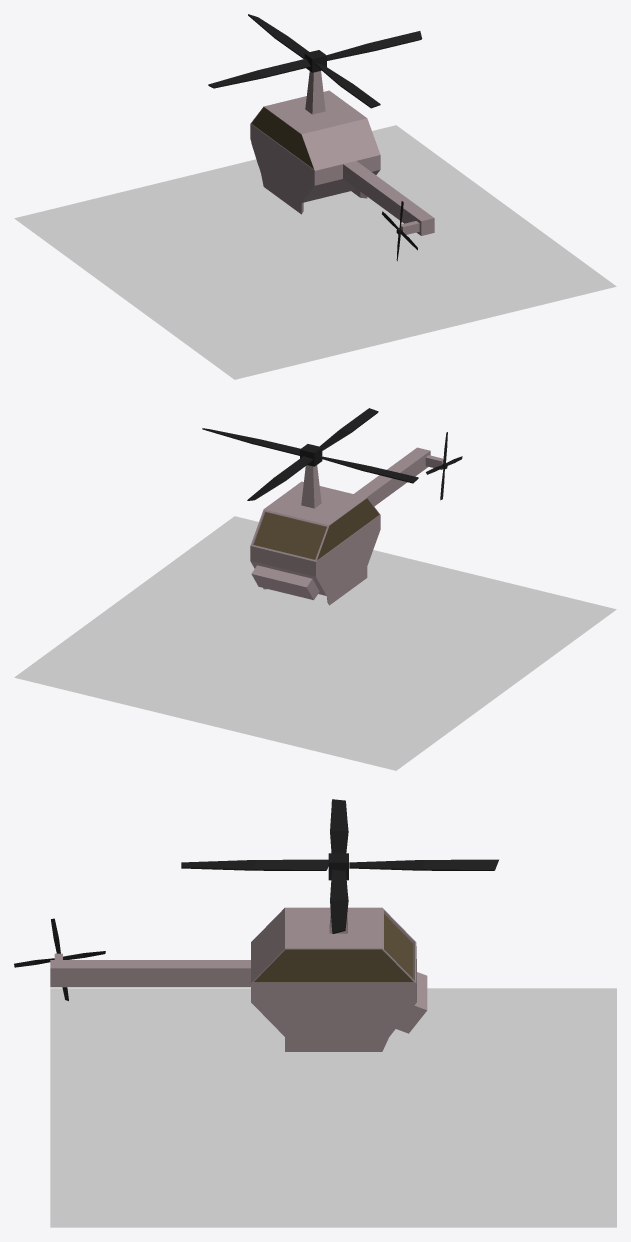
Rendered from Helicopter.fbx.
3 renders of one model, top to bottom at view 1: azimuth 30°, elevation 25°; view 2: azimuth 150°, elevation 25°; view 3: azimuth 270°, elevation 25°, orthographic. The views are drawn at different scales.
Parts seen in each view (by area): view 1: Plane, HeliBody, Rator; view 2: Plane, HeliBody, Rator; view 3: Plane, HeliBody, Rator, backRator.
Part boxes in pixels (<box>): Plane: <box>14,125,616,379</box>; HeliBody: <box>250,71,434,235</box>; Rator: <box>208,14,422,108</box>; Plane: <box>14,516,616,770</box>; HeliBody: <box>250,447,443,605</box>; Rator: <box>202,408,418,500</box>; Plane: <box>50,988,616,1227</box>; HeliBody: <box>50,907,427,1051</box>; Rator: <box>181,799,498,933</box>; backRator: <box>14,918,105,1000</box>.
Size of the model in its own units: 891 by 436 by 948.
